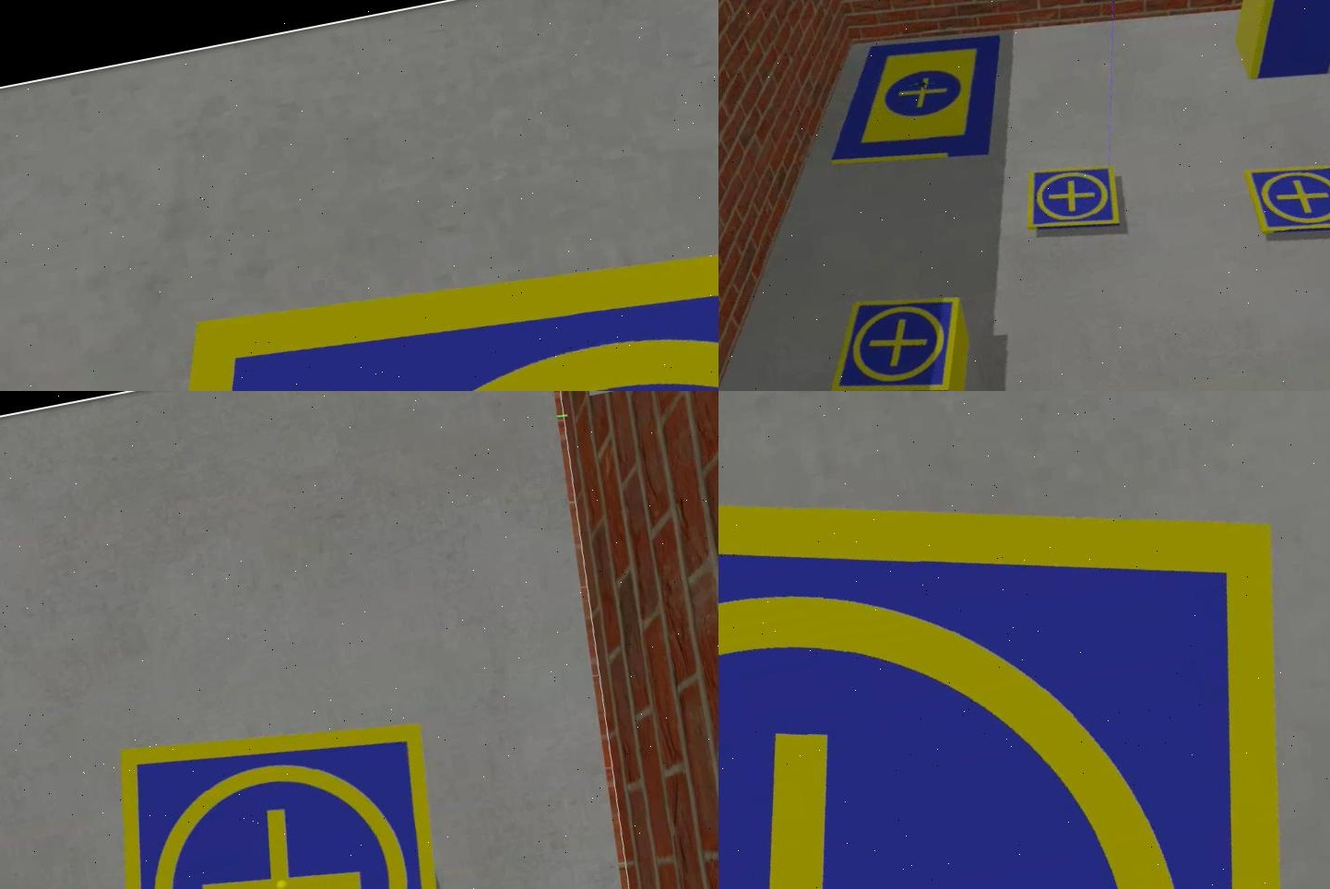large_base: (809, 23, 1018, 187)
small_base: (717, 391, 1328, 889), (4, 136, 717, 391), (68, 695, 487, 889), (813, 282, 976, 391), (1018, 160, 1129, 247), (1243, 150, 1328, 253)
